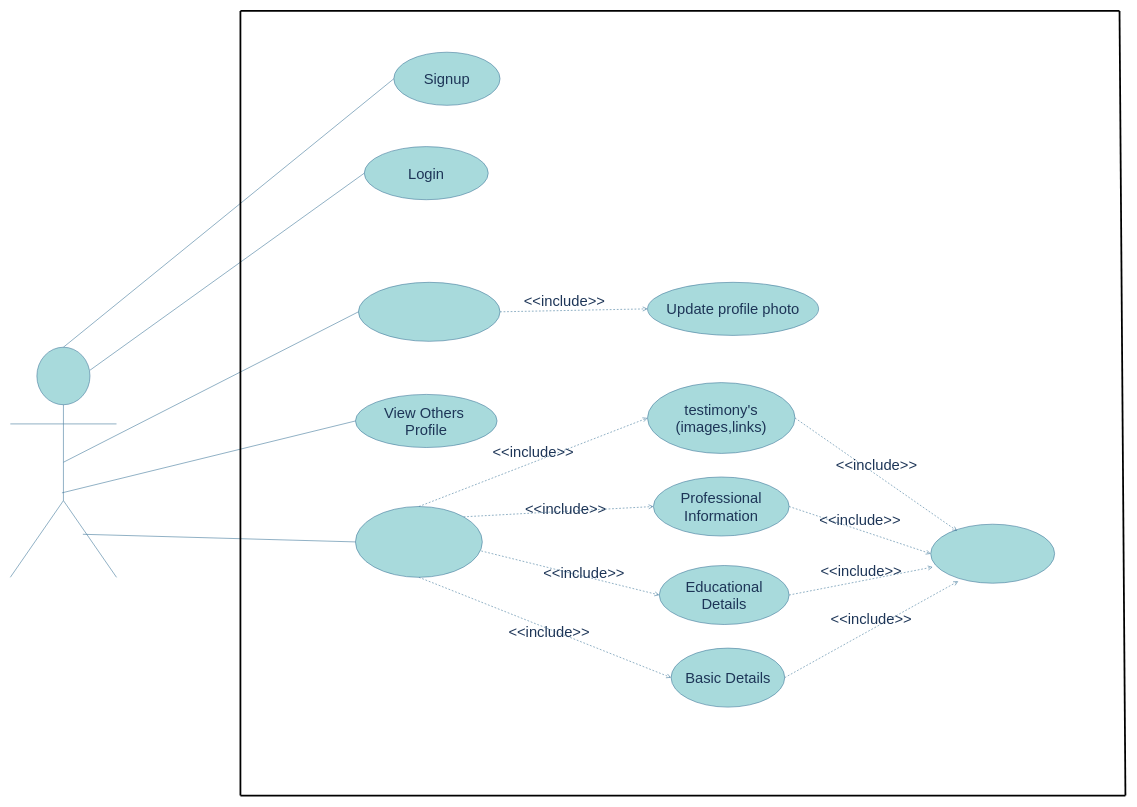
This 1137x807 diagram has some shape labels left out. The box of each missing label's shape, as (x1, y1, x2, y2) in pixels:
Edit information: (930, 524, 1055, 583)
Give his details: (355, 506, 482, 577)
Upload profile photo: (358, 282, 500, 341)
User: (10, 347, 117, 577)
